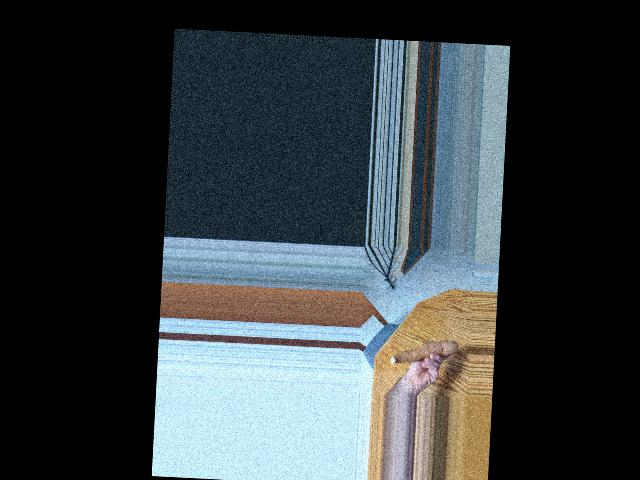sweet_potato: (389, 335, 457, 368)
